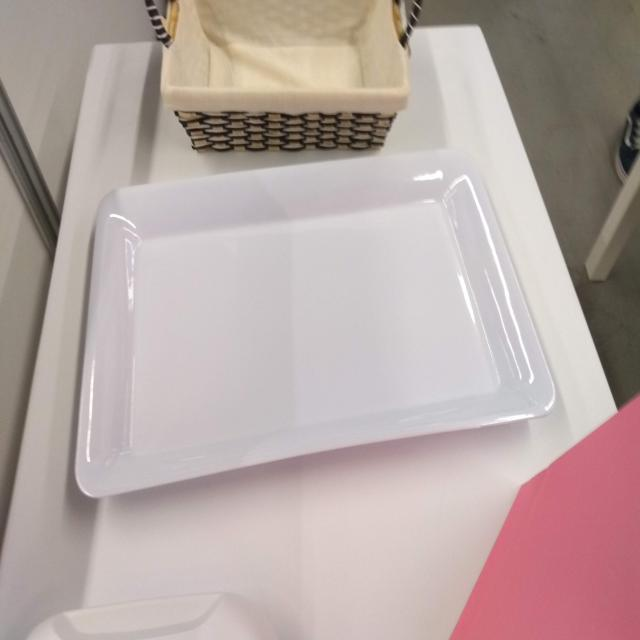tray: (72, 147, 563, 510)
